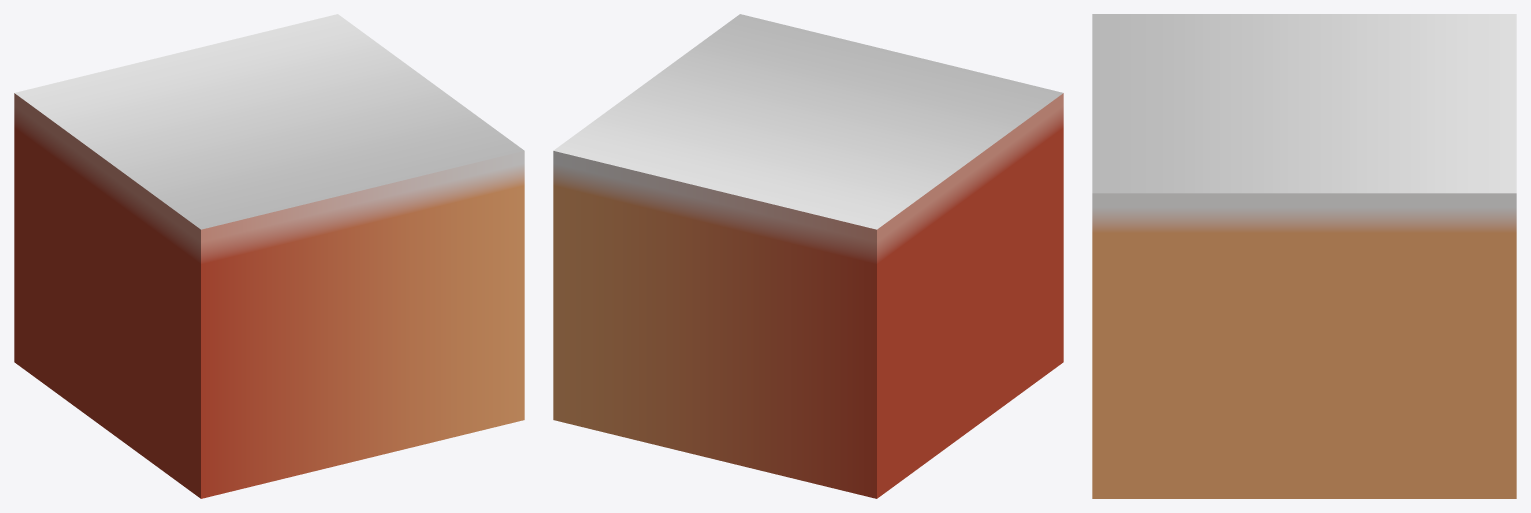
3 renders of one model, left to right at view 1: azimuth 30°, elevation 25°; view 2: azimuth 150°, elevation 25°; view 3: azimuth 270°, elevation 25°, orthographic. The views are drawn at different scales.
Parts seen in each view (by area): view 1: Box_mash; view 2: Box_mash; view 3: Box_mash.
Boxes of the visible parts, x1,y1,x2,y2 form: Box_mash: (14, 14, 524, 498); Box_mash: (553, 14, 1063, 498); Box_mash: (1092, 14, 1516, 498).
Bounding box in the file's own units: 0.1726 × 0.1372 × 0.1726.
